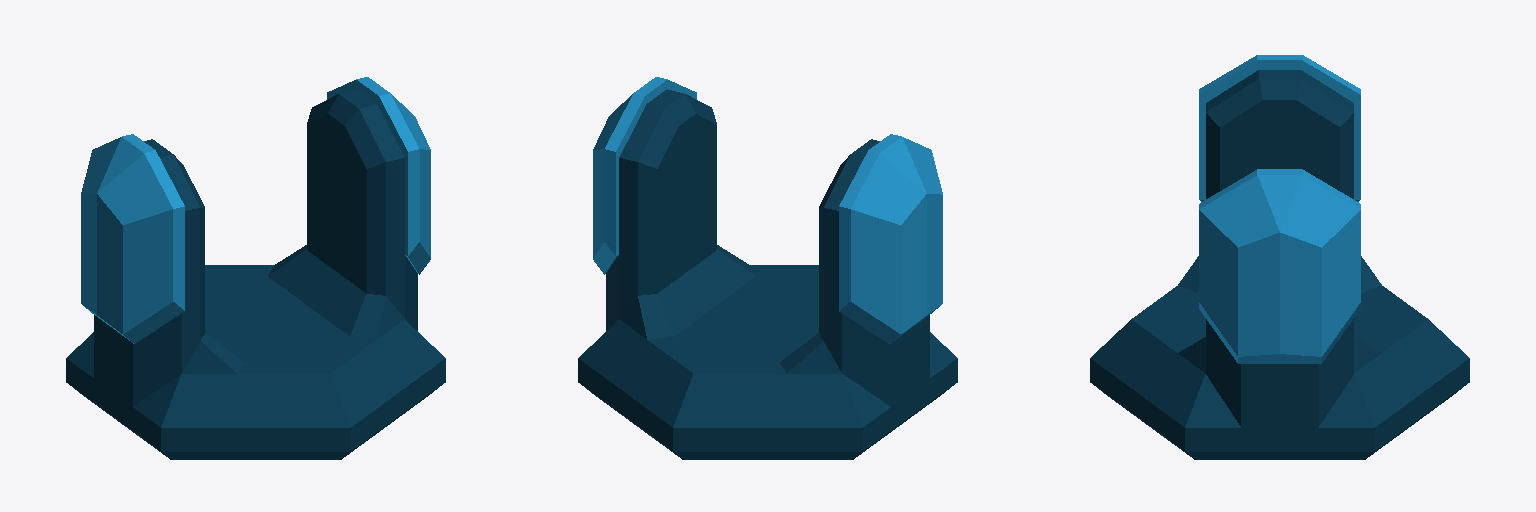
The model's file is swivel.obj.
3 renders of one model, left to right at view 1: azimuth 30°, elevation 25°; view 2: azimuth 150°, elevation 25°; view 3: azimuth 270°, elevation 25°, orthographic.
Parts seen in each view (by area): view 1: object5.001, object14.001, object10.001; view 2: object5.001, object14.001, object10.001; view 3: object5.001, object10.001, object14.001.
Boxes of the visible parts, box(x1,y1,x2,y2) form: object5.001: box(66, 89, 445, 459); object14.001: box(81, 134, 184, 343); object10.001: box(327, 77, 430, 274); object5.001: box(578, 89, 957, 459); object14.001: box(839, 134, 942, 343); object10.001: box(593, 77, 696, 274); object5.001: box(1090, 70, 1469, 459); object10.001: box(1199, 169, 1360, 363); object14.001: box(1199, 55, 1360, 201).
Size of the model in its own units: 1.36 by 1.16 by 1.41.